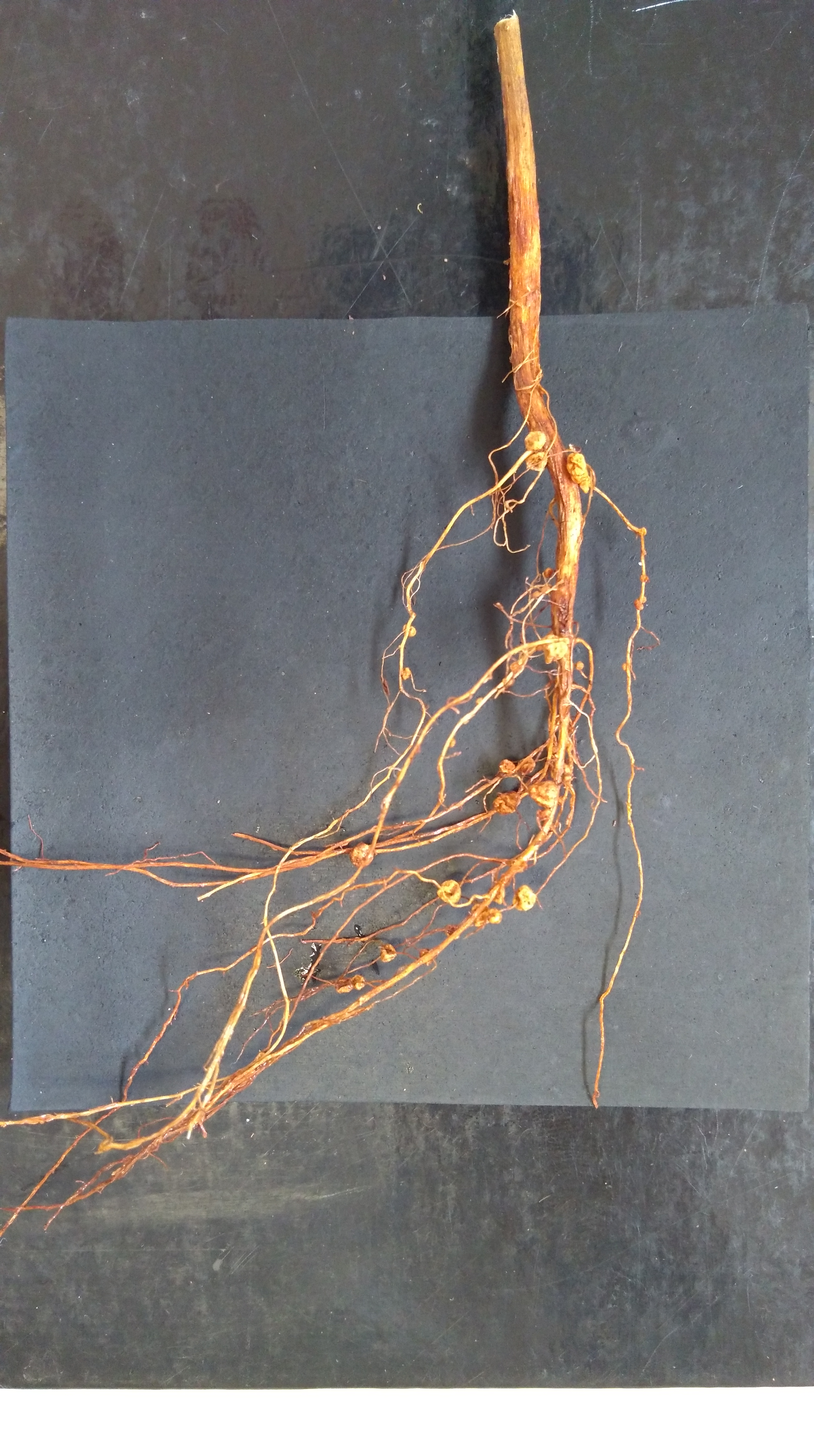nodule: (563, 450, 592, 494), (510, 881, 539, 915), (537, 633, 568, 663), (489, 788, 523, 815), (525, 778, 555, 807), (434, 878, 465, 906), (348, 841, 376, 868), (522, 429, 546, 453), (524, 451, 548, 474), (470, 902, 491, 927), (378, 942, 398, 963), (515, 756, 536, 775), (334, 975, 354, 994), (442, 923, 462, 941), (485, 907, 503, 926), (417, 946, 434, 966), (535, 809, 551, 830), (350, 973, 367, 991), (498, 758, 516, 774), (402, 622, 417, 638), (492, 886, 505, 904), (510, 657, 524, 672), (400, 666, 413, 682), (541, 567, 554, 578), (541, 583, 554, 594), (575, 660, 586, 671), (633, 598, 643, 610), (638, 526, 648, 537), (503, 677, 514, 686), (476, 695, 486, 704), (640, 573, 649, 583), (531, 590, 542, 598), (448, 737, 456, 747), (622, 662, 630, 671), (639, 595, 647, 602)
